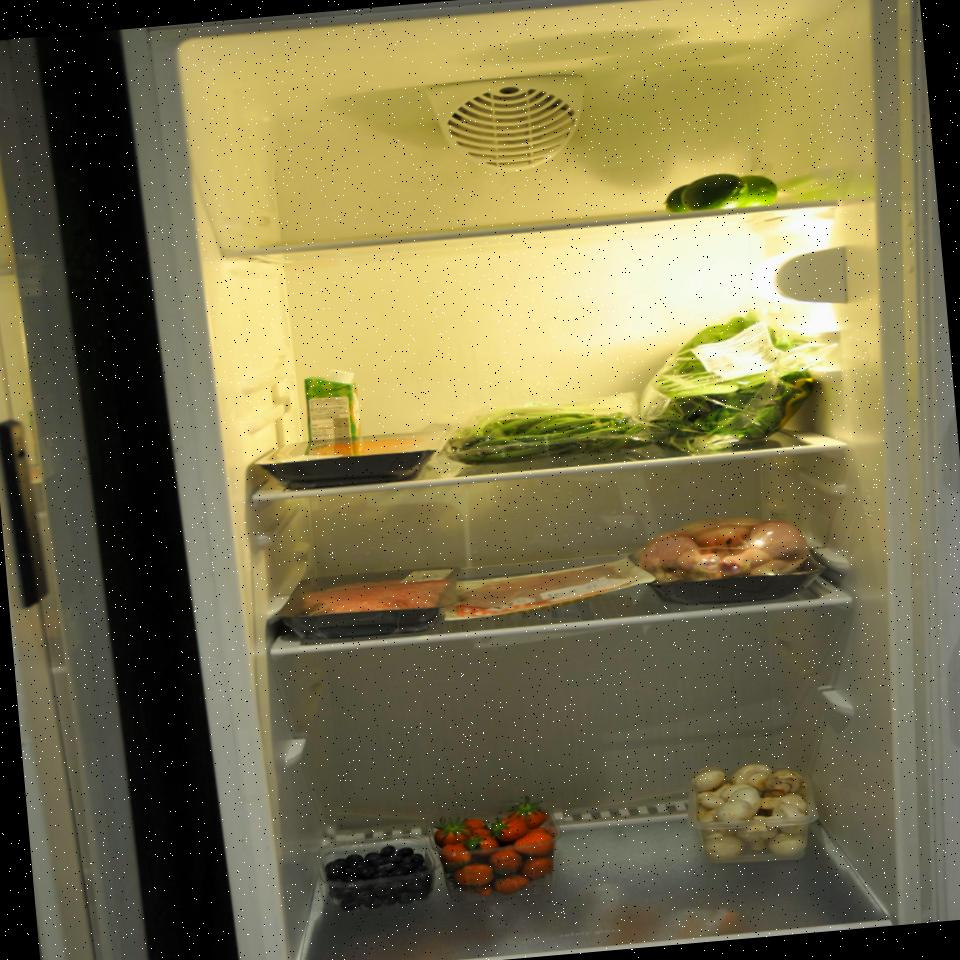Carne pollo: (619, 502, 833, 612)
